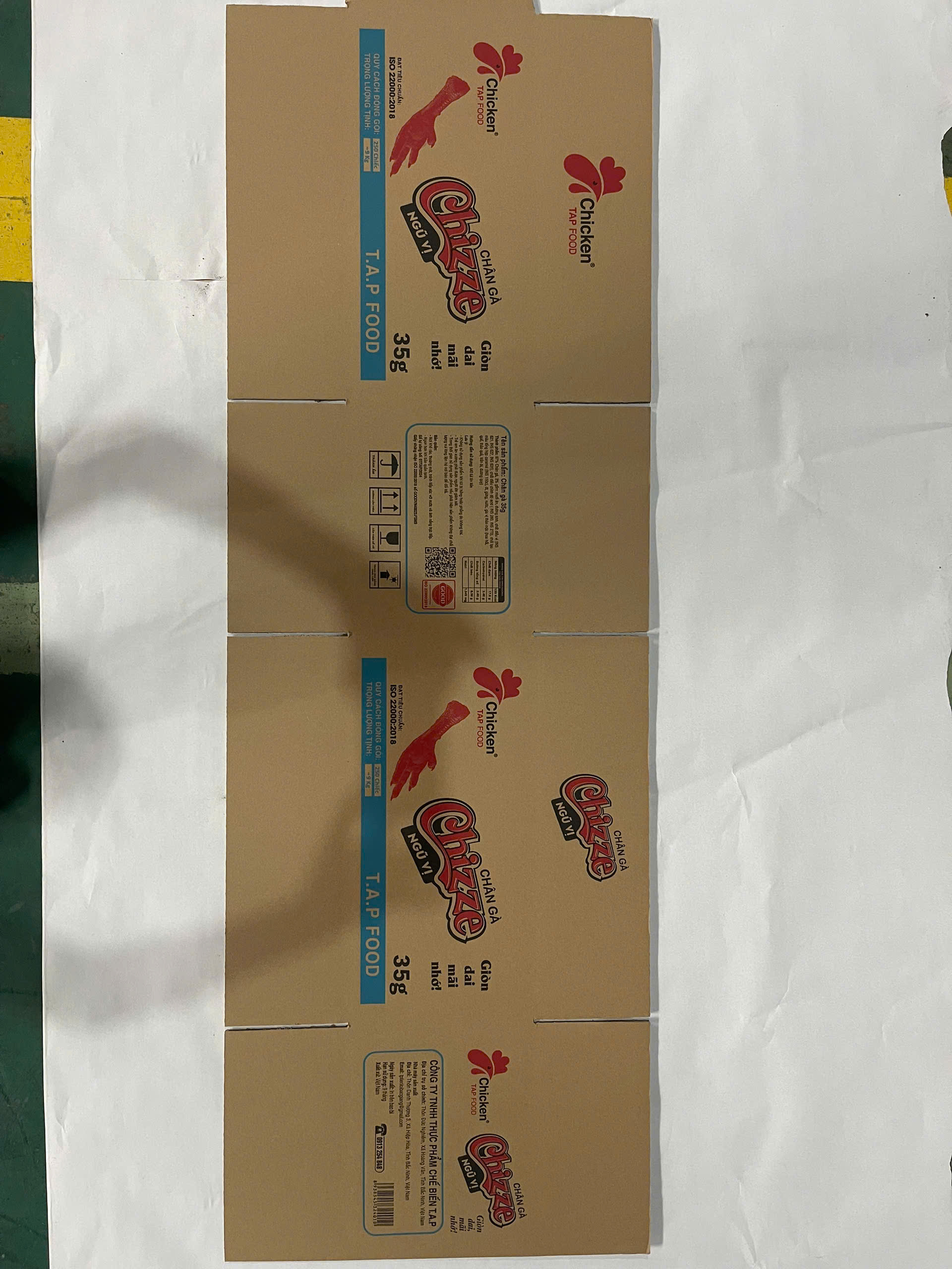box: (224, 0, 652, 1261)
